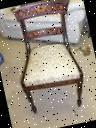Silla: (9, 0, 89, 118)
